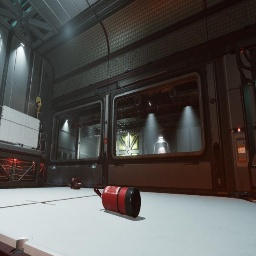FireAlarm ,: (104, 138, 107, 144)
FireExtinguisher ]: (94, 186, 141, 218), (32, 149, 32, 149), (102, 199, 102, 200)
FirstAidBox ,: (70, 178, 81, 189)
SafetySwitchPanel ,: (233, 133, 249, 167)
